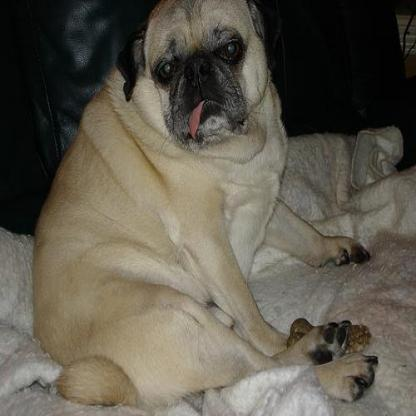pug: (31, 0, 378, 403)
